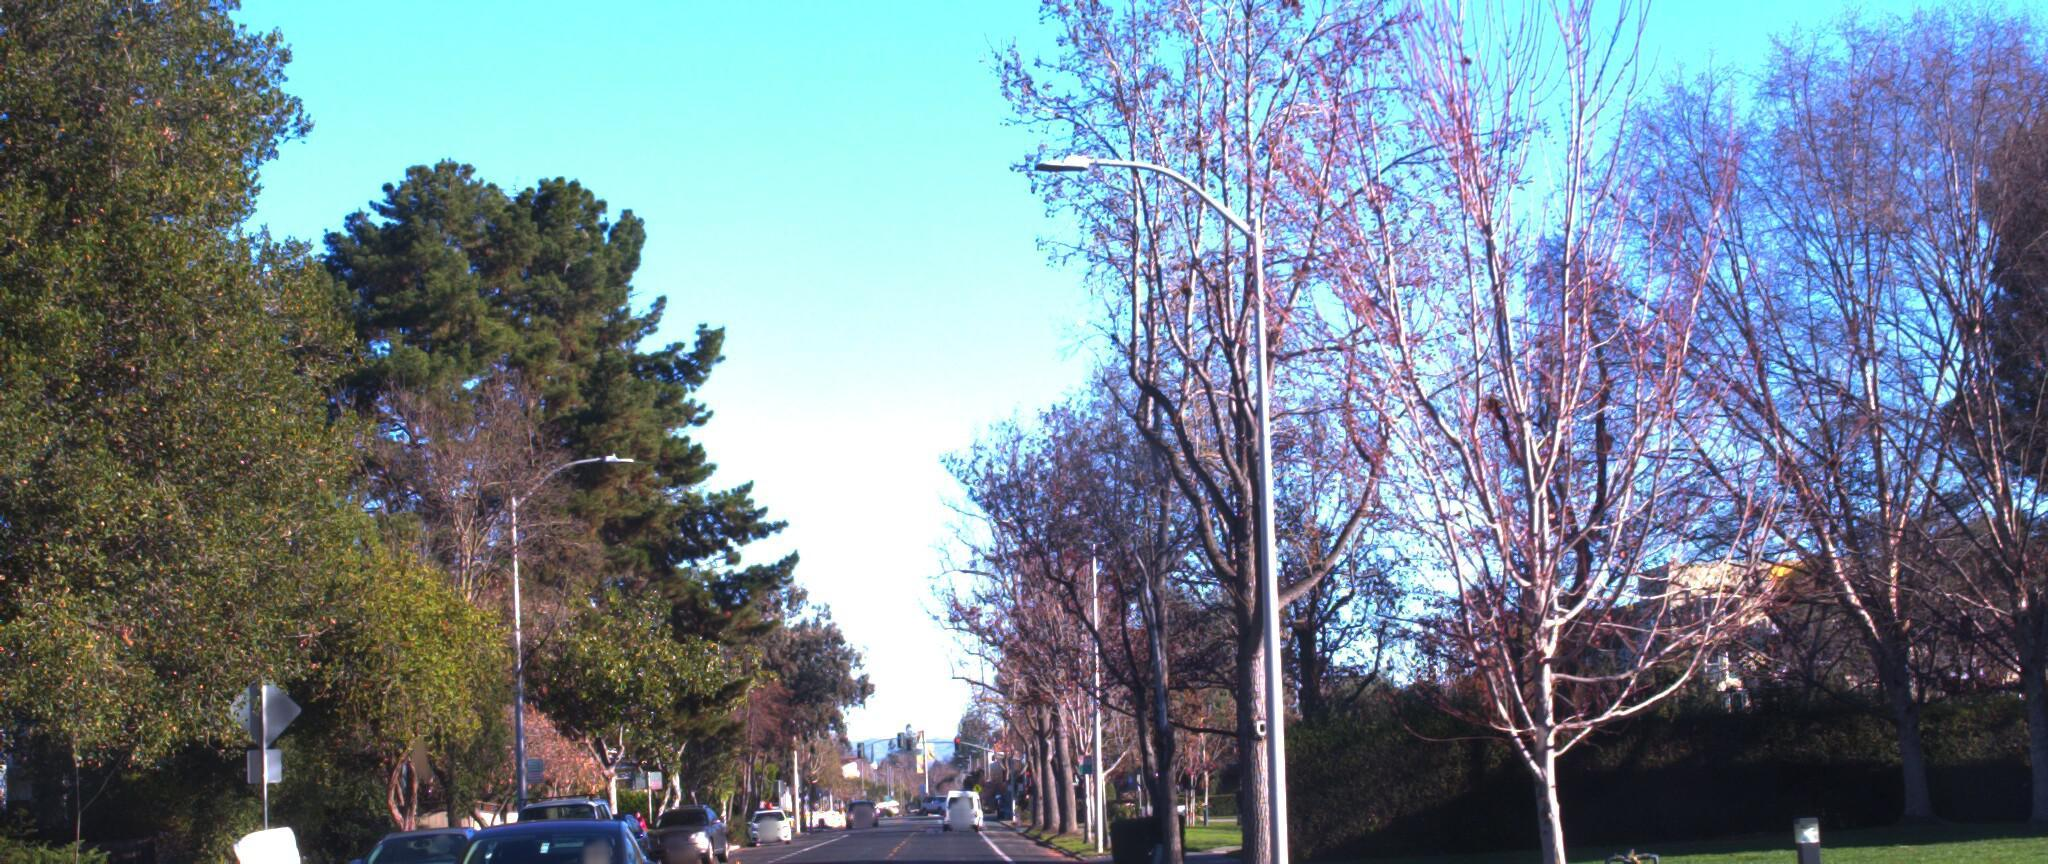car: (401, 801, 677, 864), (498, 773, 626, 864), (328, 808, 525, 864)
